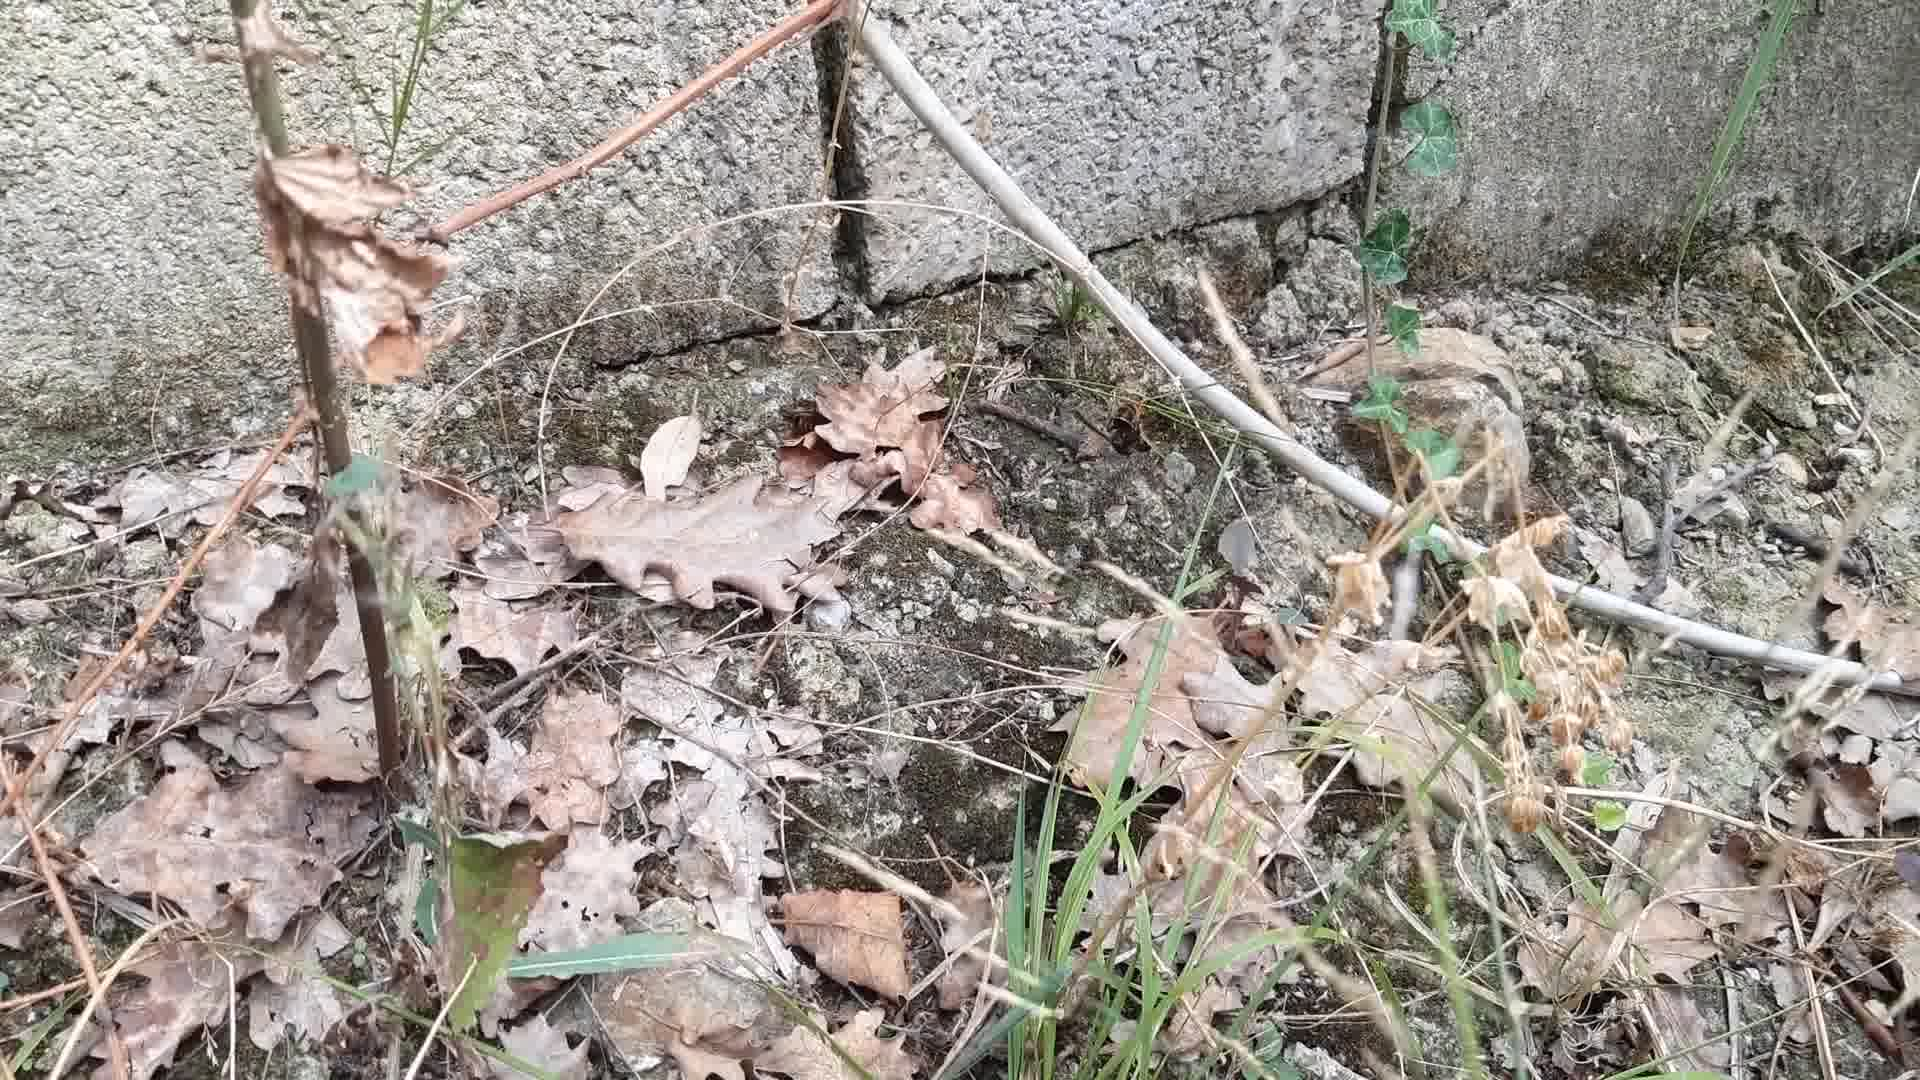hornet: (1102, 396, 1153, 462)
